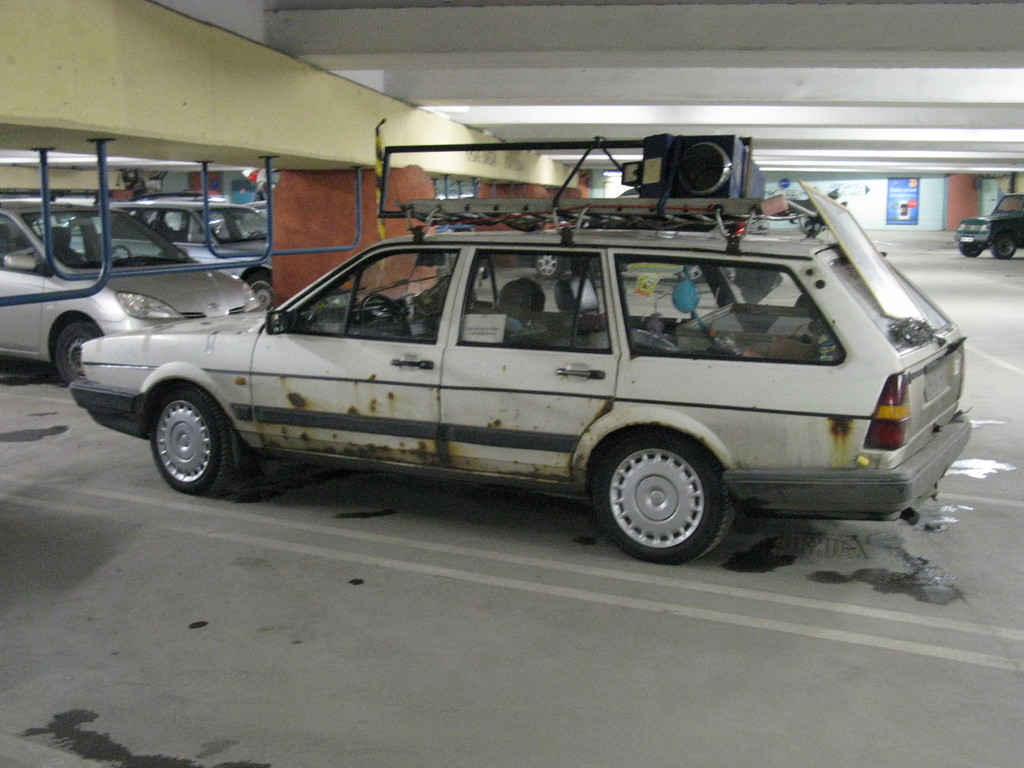Car: (0, 193, 971, 565)
